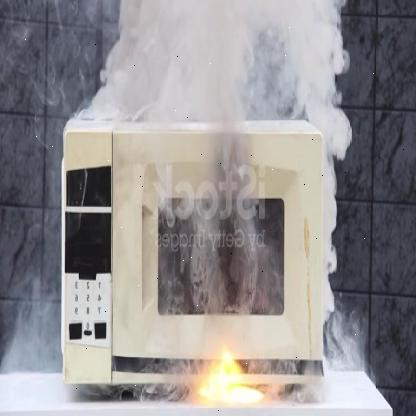fire: (189, 349, 258, 411)
smoke: (1, 5, 378, 416)
